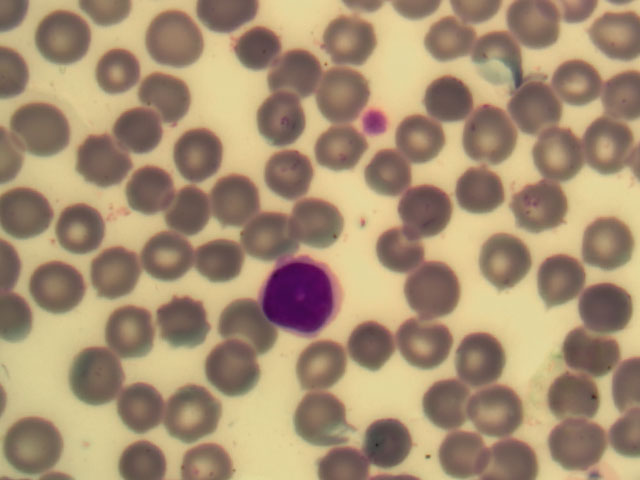RBC: (33, 6, 95, 68), (15, 97, 77, 159), (84, 36, 146, 98), (130, 60, 192, 122), (146, 10, 208, 72), (112, 97, 174, 159), (78, 120, 140, 182), (41, 195, 103, 257), (7, 180, 69, 242), (12, 253, 74, 315), (77, 244, 139, 306), (130, 230, 192, 292), (156, 183, 218, 245), (125, 162, 187, 224), (174, 119, 236, 181), (206, 163, 268, 225), (241, 196, 303, 258), (298, 188, 360, 250), (265, 151, 327, 213), (255, 101, 317, 163), (260, 42, 322, 104), (229, 14, 291, 76), (301, 50, 363, 112), (312, 13, 374, 75), (309, 123, 371, 185), (361, 139, 423, 201), (384, 104, 446, 166), (407, 69, 469, 131), (414, 11, 476, 73), (467, 21, 529, 83), (485, 11, 547, 73), (552, 57, 614, 119), (506, 75, 568, 137), (462, 101, 524, 163), (447, 153, 509, 215), (400, 175, 462, 237), (372, 219, 434, 281), (401, 256, 463, 318), (484, 219, 546, 281), (509, 178, 571, 240), (532, 122, 594, 184), (567, 111, 629, 173), (578, 209, 640, 271), (529, 252, 591, 314), (577, 276, 639, 338), (551, 320, 613, 382), (542, 355, 604, 417), (536, 413, 598, 475), (481, 418, 543, 480), (437, 418, 499, 480), (412, 370, 474, 432), (466, 373, 528, 435), (460, 322, 522, 384), (403, 311, 465, 373), (339, 317, 401, 379), (286, 330, 348, 392), (282, 390, 344, 452), (361, 412, 423, 474), (164, 383, 226, 445), (214, 329, 276, 391), (214, 306, 276, 368), (160, 284, 222, 346), (96, 291, 158, 353), (82, 345, 144, 407), (5, 403, 67, 465), (361, 109, 390, 134)
WBC: (257, 255, 342, 333)
